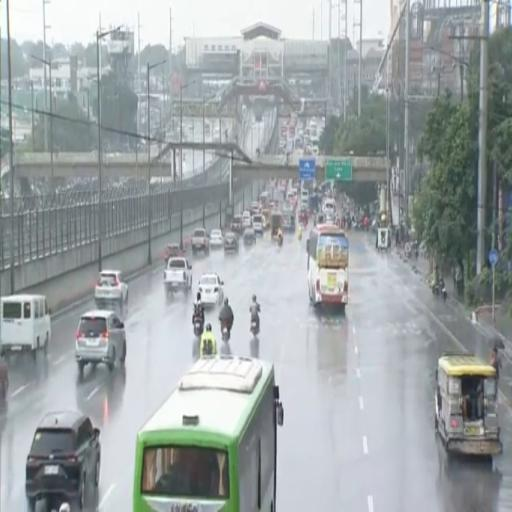bus: (134, 356, 283, 511), (307, 224, 348, 308), (259, 191, 269, 209)
car: (26, 411, 100, 511), (75, 311, 126, 374), (95, 270, 128, 307), (164, 258, 192, 294), (199, 274, 223, 306), (191, 229, 209, 253), (164, 244, 184, 263), (224, 232, 238, 252), (252, 214, 264, 234), (210, 230, 223, 248), (243, 228, 255, 246), (230, 216, 242, 233), (243, 211, 251, 228), (250, 202, 260, 215)
jeepney: (435, 352, 502, 455)
motorcycle: (432, 282, 447, 301), (194, 317, 203, 338), (221, 322, 230, 342), (439, 284, 447, 301), (251, 319, 258, 338), (298, 227, 302, 241), (277, 236, 282, 246)
